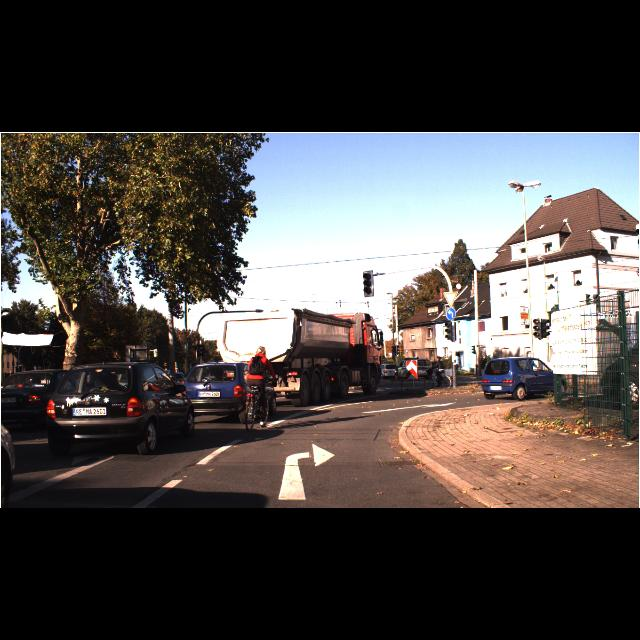mandatory: (446, 308, 454, 320)
other: (443, 292, 457, 306)
